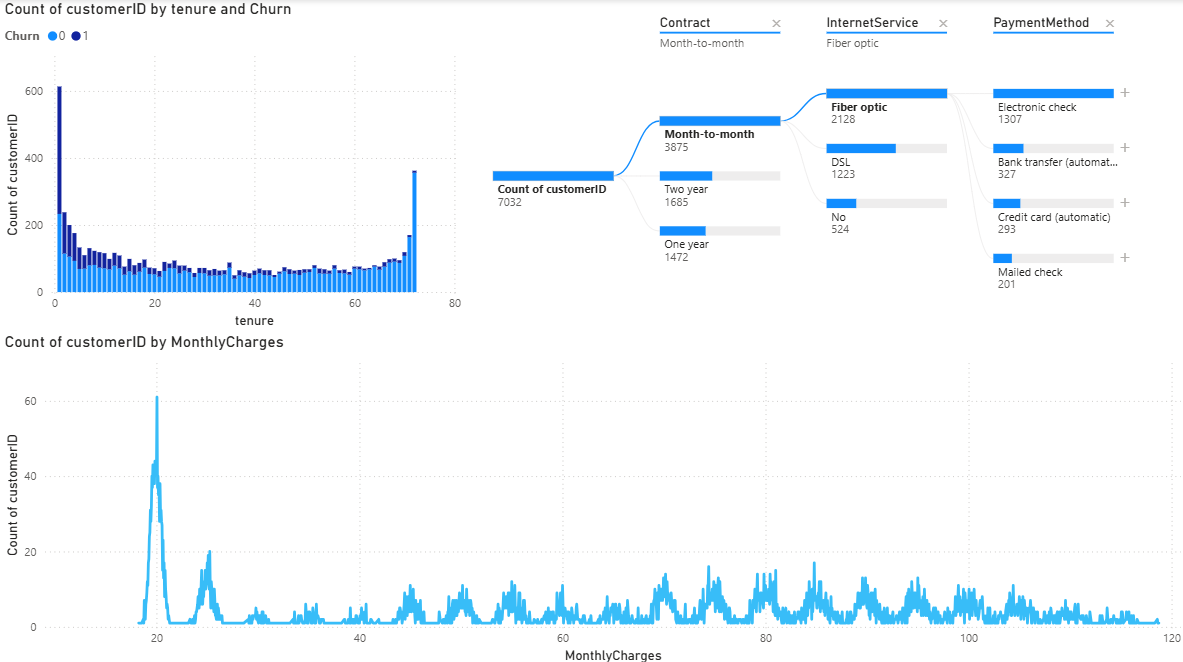

What the dashboard file says about the page in this screenshot:
{"tool":"powerbi","page":{"name":"Page 2","canvas":[1280,720],"ordinal":1},"visuals":[{"type":"lineChart","fields":{"Category":["Cleaned_Customer_Churn.MonthlyCharges"],"Y":["CountNonNull(Cleaned_Customer_Churn.customerID)"]},"box":[0,359.1,1279.4,360.9],"z":1000},{"type":"lineStackedColumnComboChart","fields":{"Category":["Cleaned_Customer_Churn.tenure"],"Y":["CountNonNull(Cleaned_Customer_Churn.customerID)"],"Series":["Cleaned_Customer_Churn.Churn"]},"box":[0,0,502.7,359.1],"z":2000},{"type":"decompositionTreeVisual","fields":{"Analyze":["CountNonNull(Cleaned_Customer_Churn.customerID)"],"ExplainBy":["Cleaned_Customer_Churn.Contract","Cleaned_Customer_Churn.InternetService","Cleaned_Customer_Churn.PaymentMethod","Cleaned_Customer_Churn.TechSupport"]},"box":[502.7,0,776.7,359.1],"z":2001}]}

Visuals, with their boxes in screenshot pixels (x1, y1, x2, y2), scaled from the page's 1280x720 canvas onto the 1183x662 screenshot:
lineChart - Cleaned_Customer_Churn.MonthlyCharges x CountNonNull(Cleaned_Customer_Churn.customerID): region(0, 330, 1182, 661)
lineStackedColumnComboChart - Cleaned_Customer_Churn.tenure x CountNonNull(Cleaned_Customer_Churn.customerID): region(0, 0, 465, 330)
decompositionTreeVisual - CountNonNull(Cleaned_Customer_Churn.customerID) x Cleaned_Customer_Churn.Contract: region(465, 0, 1182, 330)
